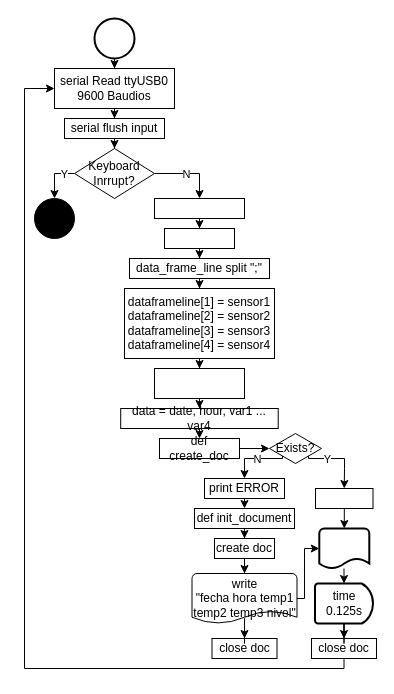
The diagram is 394 pixels wide and 694 high, and some of its shapes have lost their labels. Here are the shapes that lost their labels. From the top down, the centre of each, then its label:
At (x=114, y=38): "INIT".
At (x=54, y=218): "END".
At (x=199, y=208): "serial ReadLine".
At (x=199, y=238): "decode utf-8".
At (x=199, y=383): "def init_register var1...var4".
At (x=343, y=498): "open doc".
At (x=344, y=548): "Write Data".
